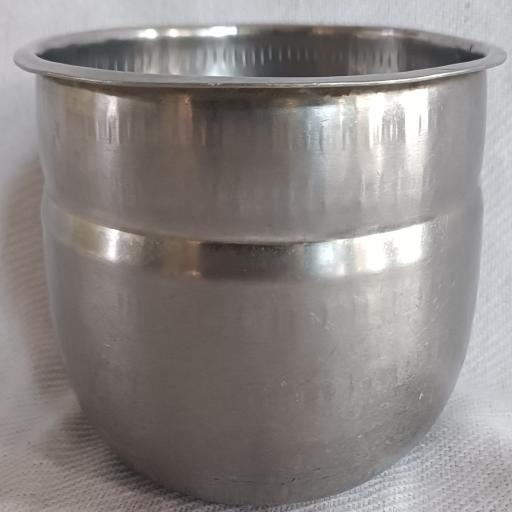vessel: (15, 25, 505, 505)
